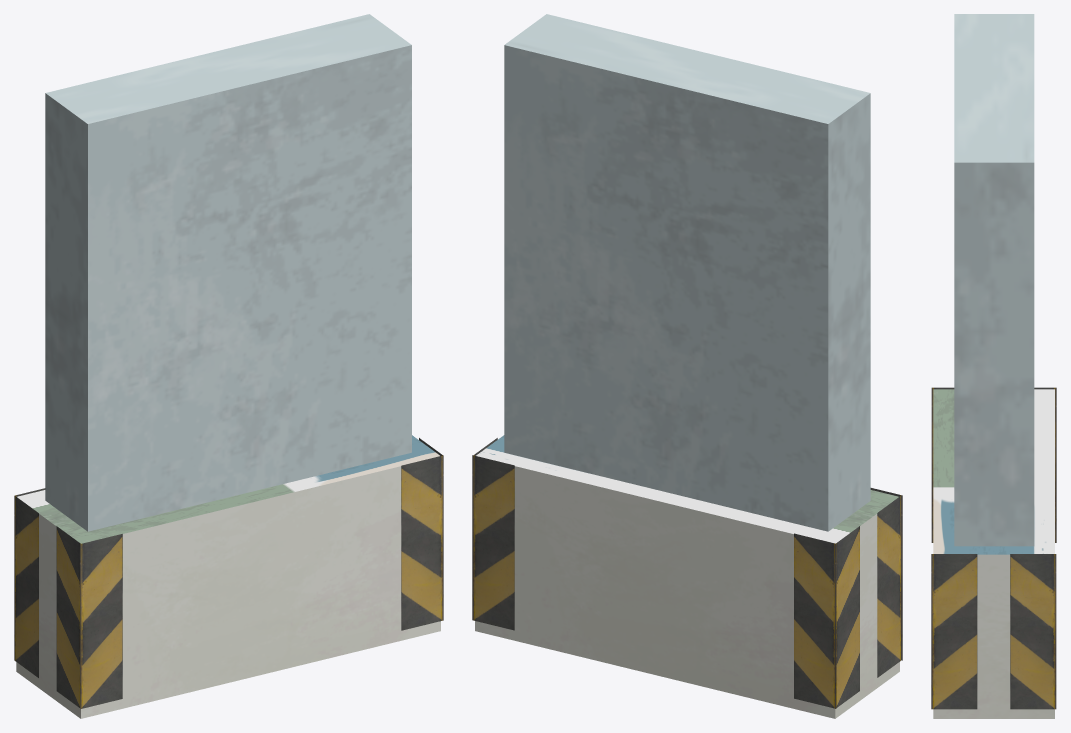
File: small_wall.fbx
3 renders of one model, left to right at view 1: azimuth 30°, elevation 25°; view 2: azimuth 150°, elevation 25°; view 3: azimuth 270°, elevation 25°, orthographic. The views are drawn at different scales.
Visible parts, largest first — view 1: strip.009; view 2: strip.009; view 3: strip.009.
Part boxes in pixels (left/top/right/bottom): strip.009: left=14, top=14, right=443, bottom=718; strip.009: left=472, top=14, right=902, bottom=718; strip.009: left=931, top=14, right=1056, bottom=718.
Size of the model in its own units: 262 by 400 by 82.92.
Materials: 2 (2 with a texture image).
